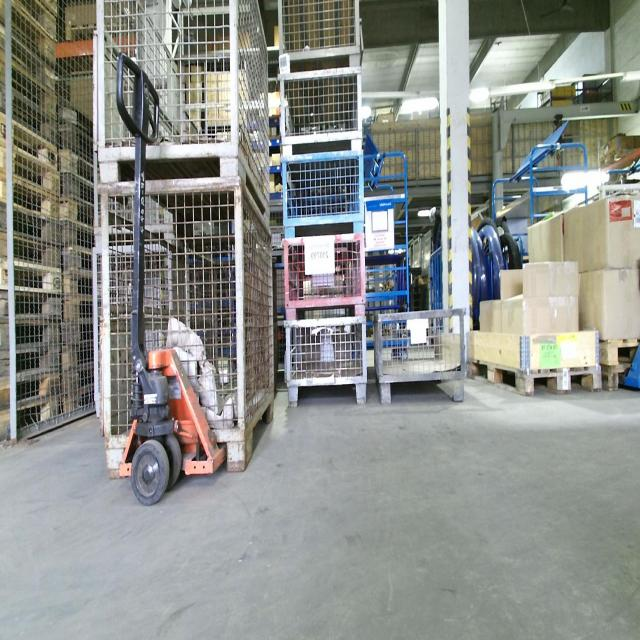pallet: (466, 357, 604, 401), (2, 84, 59, 144), (2, 33, 59, 92), (1, 55, 57, 115), (3, 116, 58, 168), (1, 401, 57, 448), (2, 147, 59, 190), (3, 206, 60, 247), (3, 175, 59, 216), (2, 233, 61, 269), (2, 372, 56, 408), (1, 320, 59, 350), (2, 350, 60, 379), (2, 264, 65, 289), (65, 17, 116, 47), (2, 296, 64, 318), (58, 147, 93, 183), (60, 123, 90, 160), (602, 364, 637, 395), (598, 339, 638, 366), (59, 171, 92, 203), (61, 199, 94, 230), (63, 363, 94, 392), (59, 221, 93, 247), (61, 272, 95, 297), (62, 389, 94, 415), (64, 297, 95, 321), (61, 250, 94, 272), (64, 321, 93, 346), (61, 346, 93, 364)
pallet_truck: (113, 49, 229, 508)
stillage: (98, 182, 278, 482), (93, 1, 273, 233), (89, 245, 222, 434), (277, 0, 372, 126), (371, 308, 469, 408), (281, 230, 368, 323), (279, 67, 366, 158), (281, 323, 371, 408), (280, 153, 368, 238)
